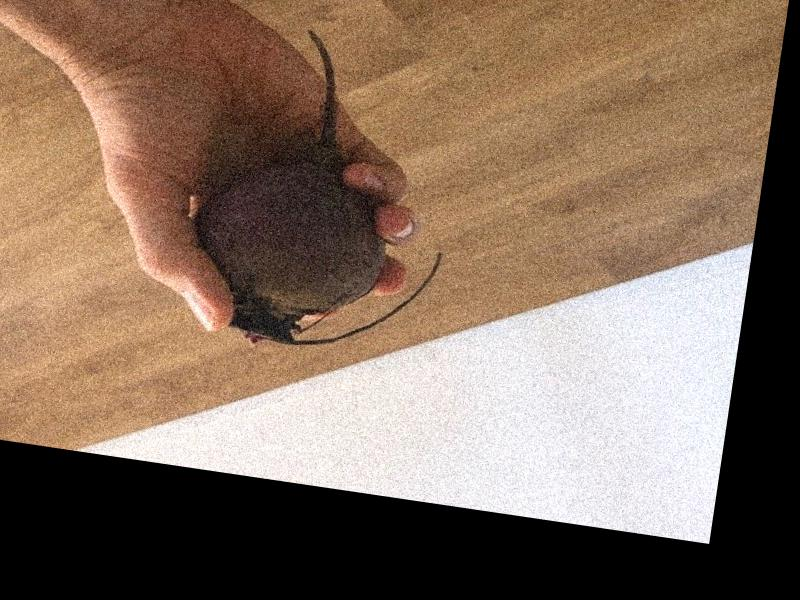Beet: (179, 20, 474, 371)
